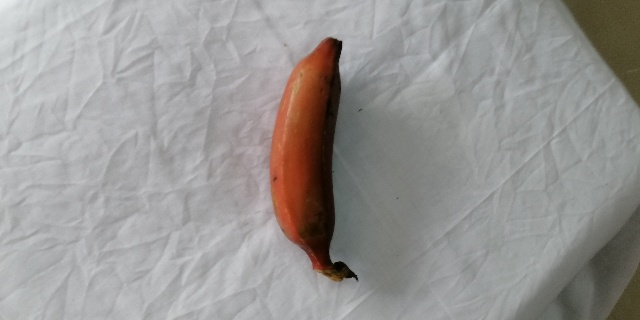banana_red: (270, 37, 366, 287)
